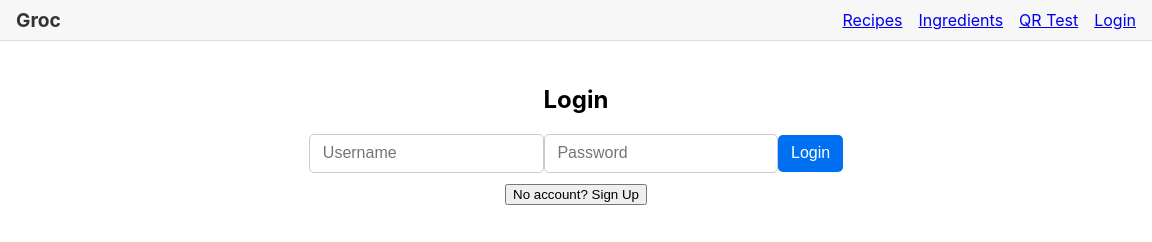
Test case: signup failure shows error
The image size is (1152, 242).
Click the button "No account? Sign Up" at [576, 195], box [505,184,647,205]
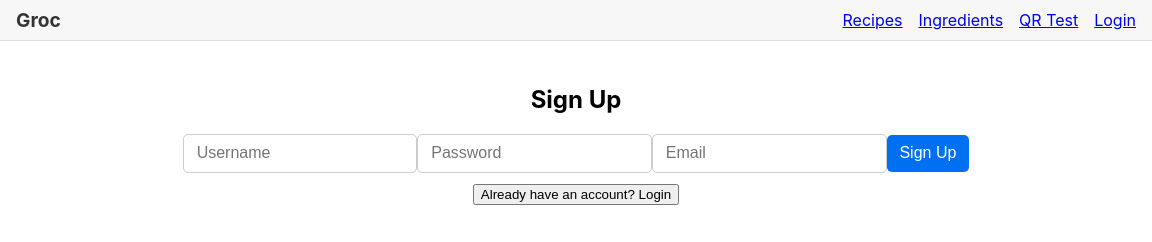
Type "newuser" into the field with placeholder "Username" at [300, 153], box [183,134,417,173]
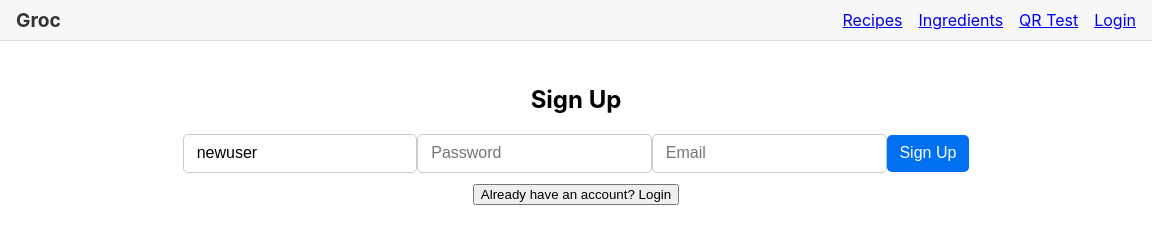
Type "pass" into the password field with placeholder "Password" at [535, 153], box [417,134,652,173]
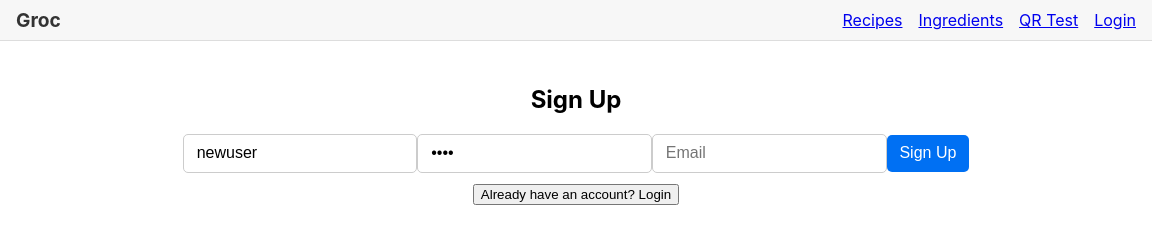
Type "test@test.com" into the field with placeholder "Email" at [769, 153], box [652,134,887,173]
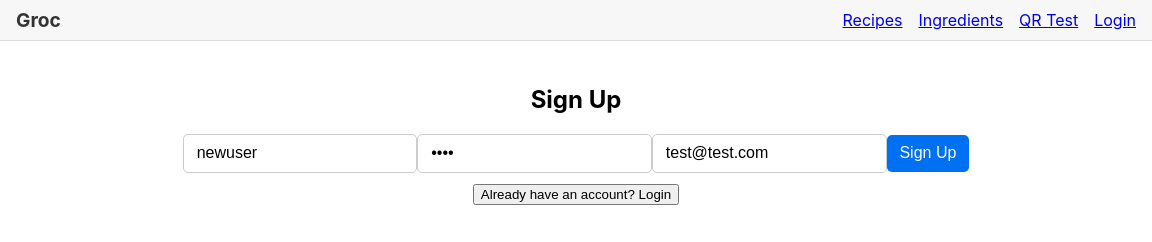
Click the button "Sign Up" at [928, 153], box [887,135,969,172]
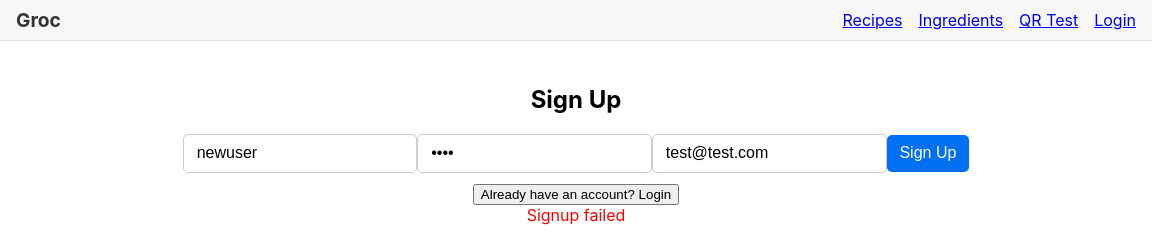
expect the text "Signup failed" is shown: met, box [527,205,625,225]
